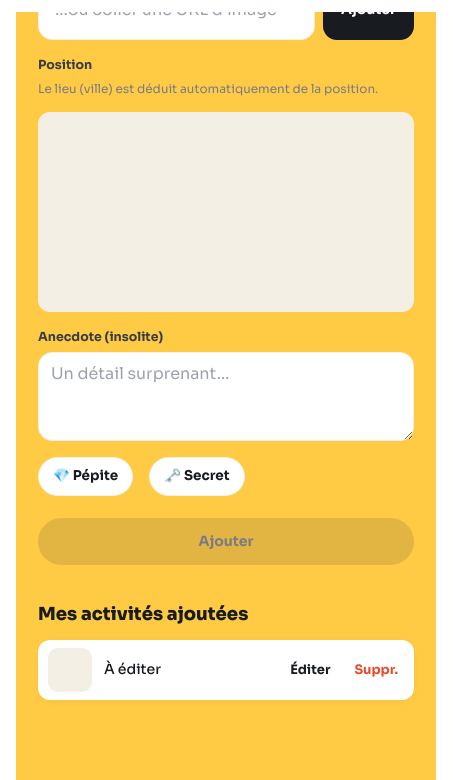
Test: AddActivityScreen › loads a record into the form when editing
(page scrolled)
Click the button with aria-label "modifier À éditer" at (310, 670), box [284,654,336,686]
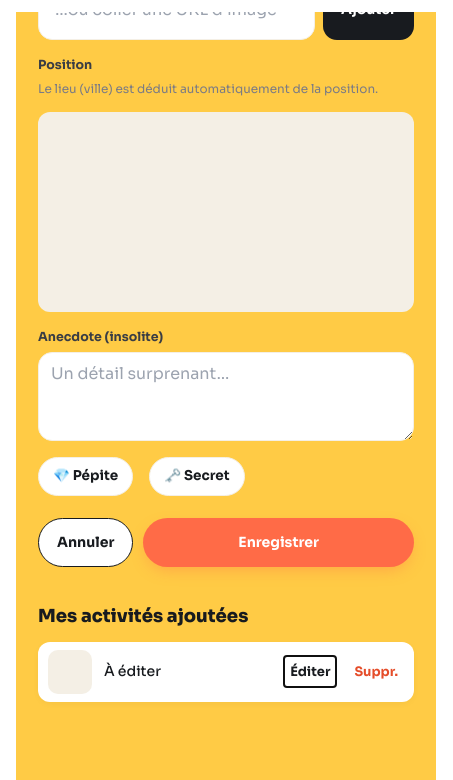
Check: the button with aria-label "enregistrer les modifications" is shown, box [143,518,414,567]
